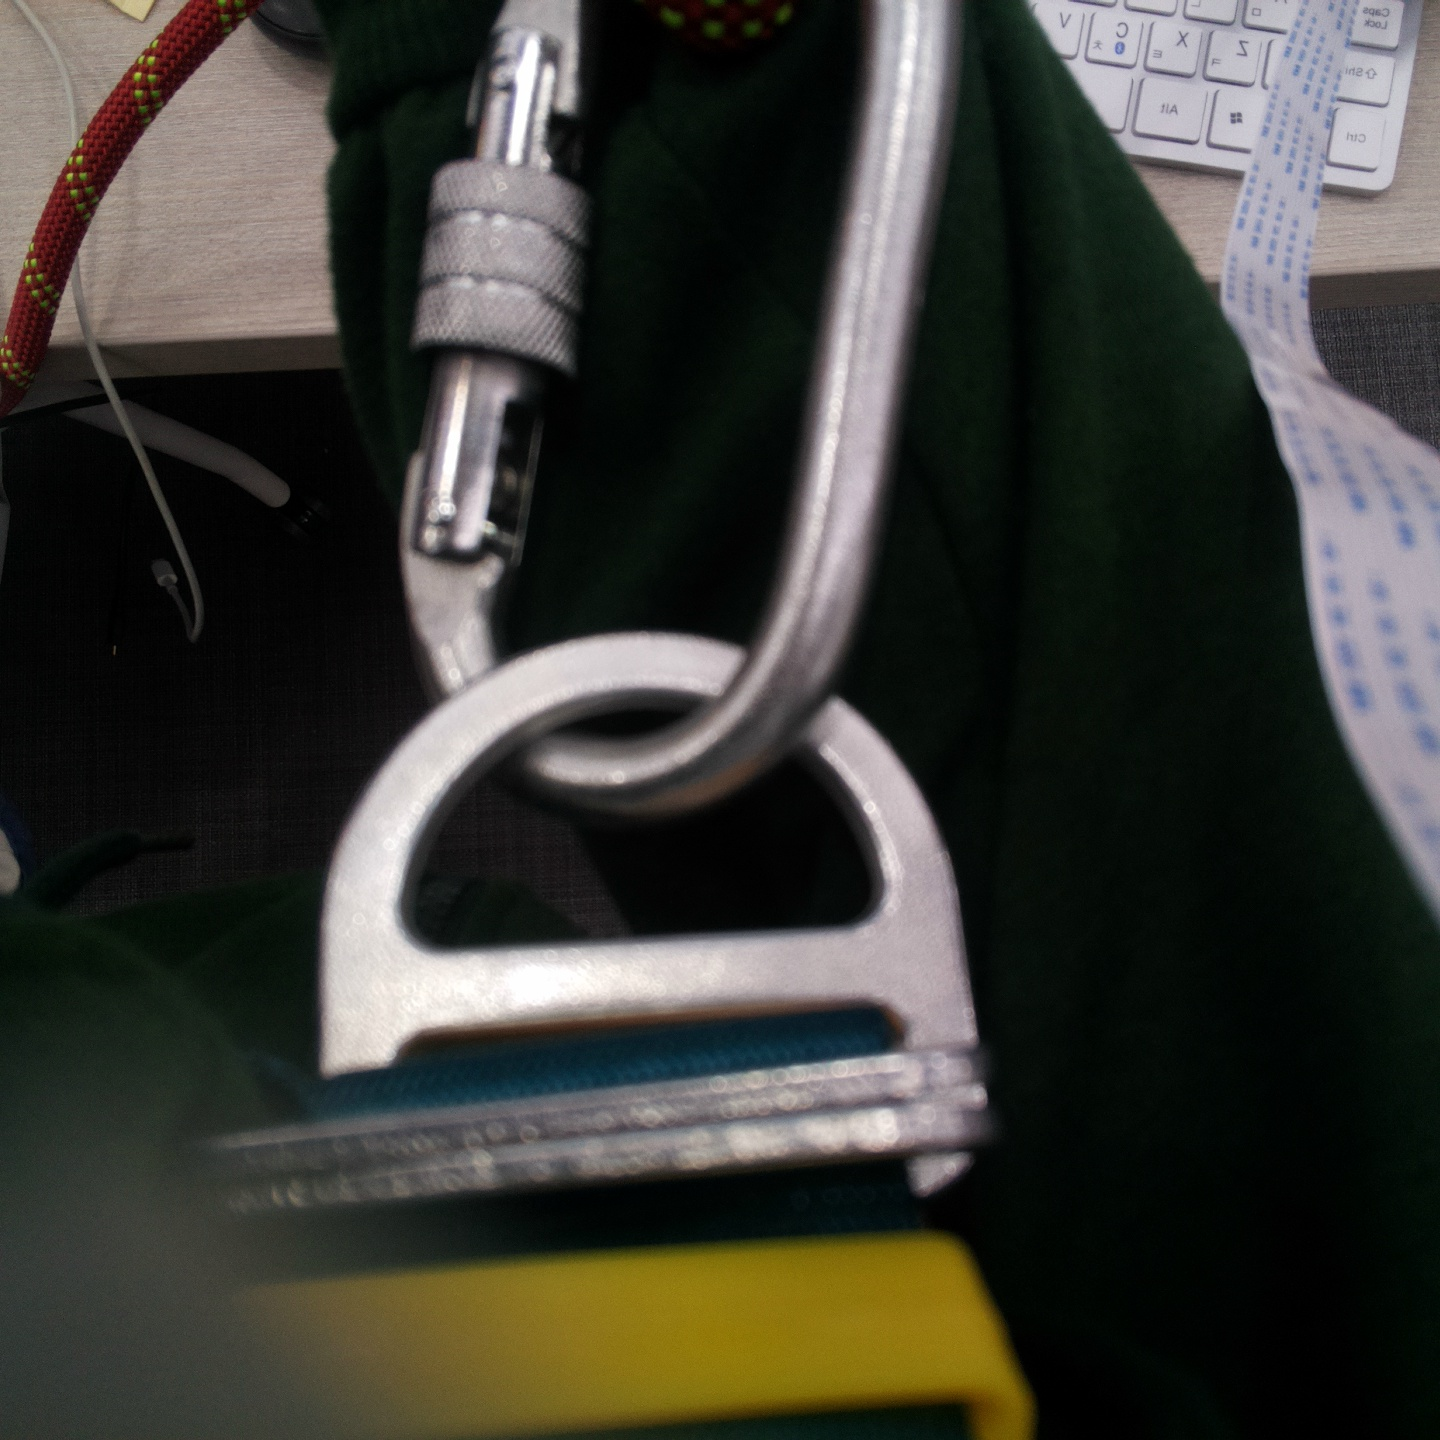SUCCESS: (410, 41, 945, 626)
